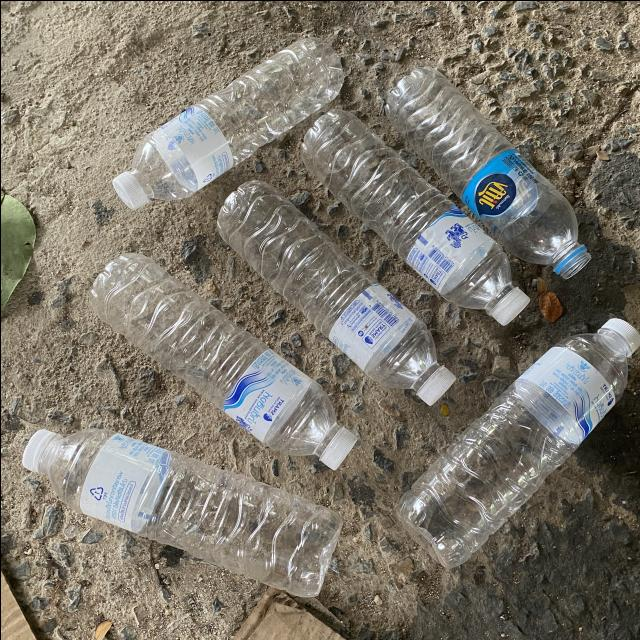plastik: (395, 317, 640, 567), (89, 252, 356, 469), (21, 428, 342, 596), (216, 179, 454, 404), (300, 108, 528, 323), (384, 67, 589, 278), (112, 36, 343, 208)
